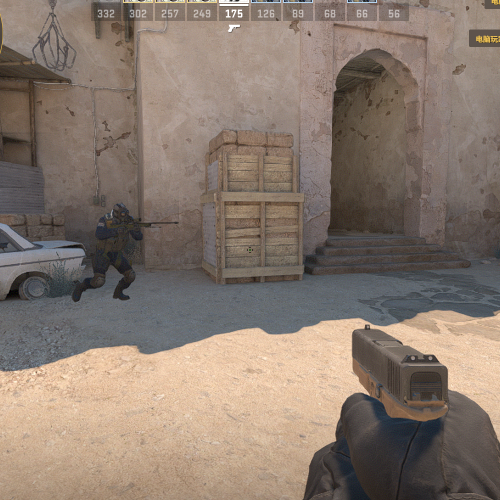ct_body: (72, 201, 142, 301)
ct_head: (111, 202, 130, 222)
